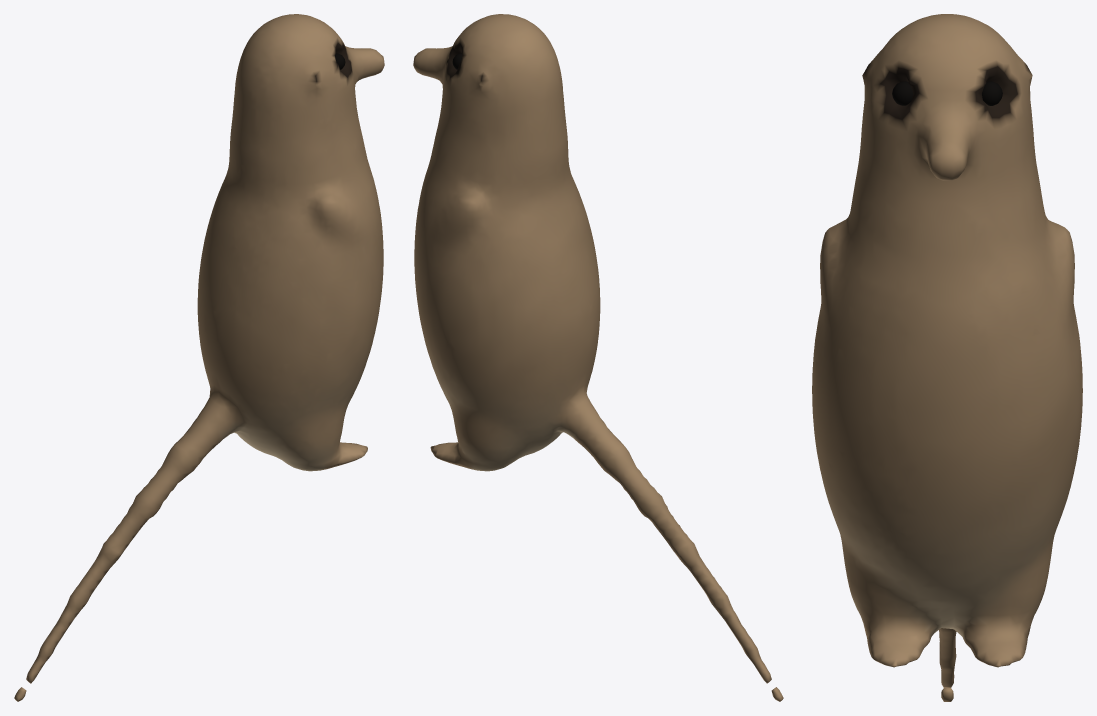
The model's file is meerkat.glb.
3 views of the same model, side by side, from view 1: azimuth 30°, elevation 25°; view 2: azimuth 150°, elevation 25°; view 3: azimuth 270°, elevation 25° (orthographic). The views are drawn at different scales.
Visible parts, largest first — view 1: meerkat; view 2: meerkat; view 3: meerkat.
Boxes of the visible parts, box(x1,y1,x2,y2) form: meerkat: box(14, 14, 384, 701); meerkat: box(413, 14, 783, 701); meerkat: box(812, 14, 1082, 701).
Size of the model in its own units: 0.2631 by 0.4204 by 0.1183.
